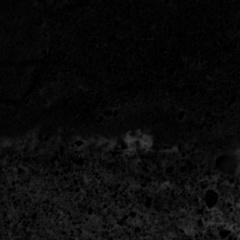Vegetation: (127, 133, 152, 151), (86, 137, 124, 147)
